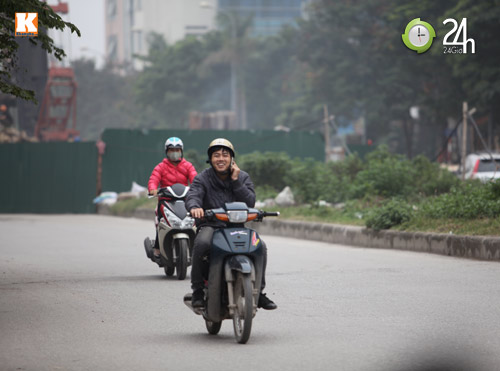dieu khien xe may: (200, 136, 266, 275)
su dung dien thoai: (208, 138, 241, 184)
